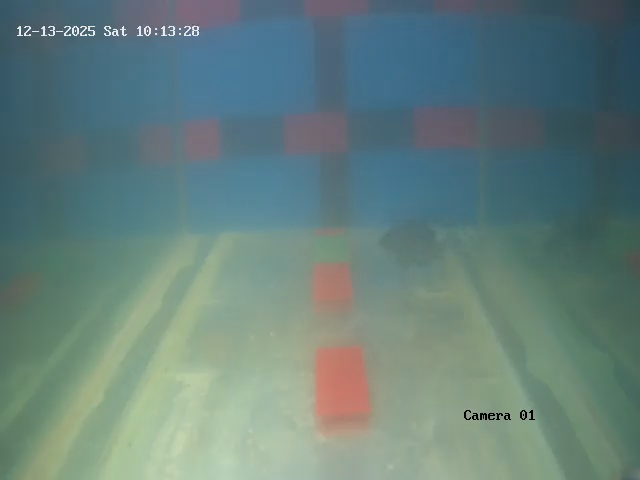fish: (377, 218, 459, 271)
